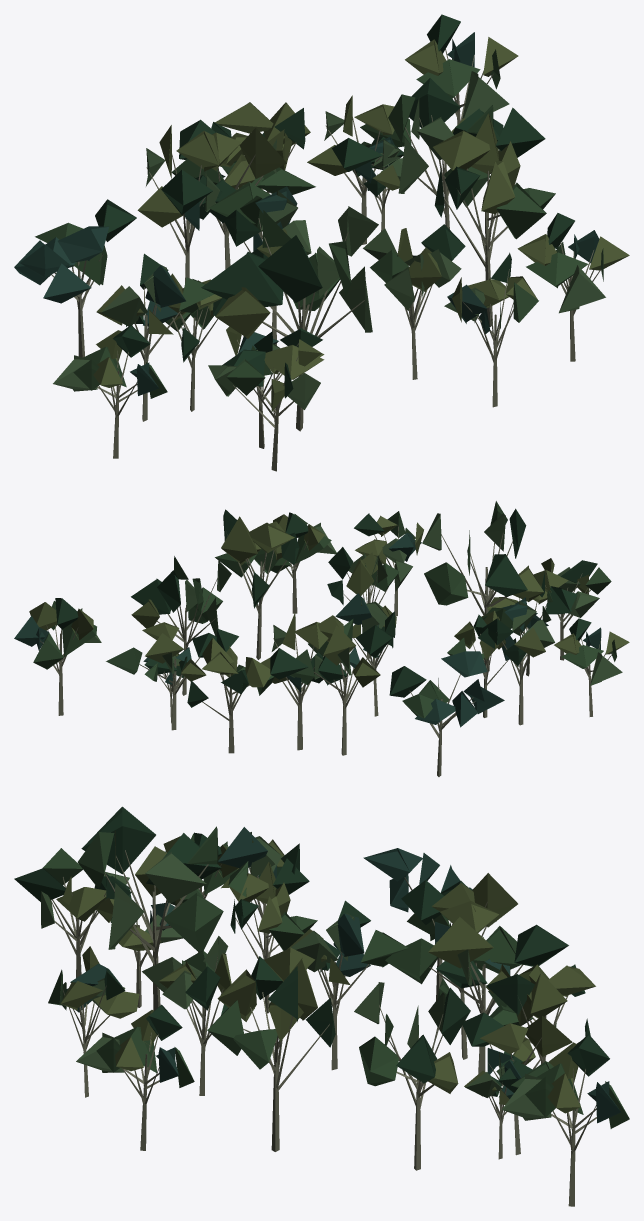
Rendered from forest_22_19.dae.
3 views of the same model, one above another, from view 1: azimuth 30°, elevation 25°; view 2: azimuth 150°, elevation 25°; view 3: azimuth 270°, elevation 25° (orthographic). The views are drawn at different scales.
Parts seen in each view (by area): view 1: Node; view 2: Node; view 3: Node.
Part boxes in pixels (x1=…): Node: x1=14, y1=14, x2=629, y2=471; Node: x1=14, y1=501, x2=629, y2=776; Node: x1=14, y1=806, x2=629, y2=1206.
Size of the model in its own units: 10.75 by 9.05 by 3.76.
